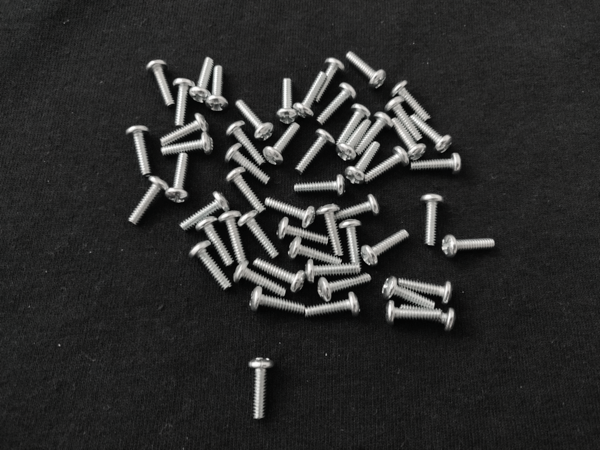shortscrew: (189, 241, 232, 291), (128, 176, 170, 225), (180, 191, 230, 231), (252, 258, 306, 294), (296, 128, 337, 175), (234, 262, 287, 298), (196, 217, 234, 267), (226, 167, 266, 214), (382, 275, 437, 309), (360, 230, 410, 267), (226, 120, 266, 166), (225, 144, 271, 184), (292, 71, 328, 119), (235, 99, 275, 142), (317, 82, 357, 125), (410, 114, 453, 154), (385, 97, 423, 142), (248, 357, 275, 420), (355, 111, 392, 156), (249, 287, 306, 316), (159, 113, 209, 146), (264, 198, 317, 229), (391, 80, 431, 121), (385, 300, 443, 328), (318, 273, 372, 303), (288, 237, 343, 266), (316, 203, 345, 258), (400, 278, 455, 307), (337, 103, 372, 148), (277, 217, 329, 247), (305, 292, 362, 319), (346, 51, 386, 89), (145, 59, 176, 108), (337, 119, 372, 162), (306, 258, 362, 284), (125, 125, 151, 176), (161, 132, 214, 157), (336, 195, 382, 222), (165, 153, 190, 202), (338, 220, 364, 267), (294, 174, 347, 197), (442, 235, 495, 257), (189, 58, 214, 104), (411, 152, 461, 175), (173, 78, 195, 128), (421, 193, 441, 248), (206, 65, 228, 112), (277, 78, 297, 125)
